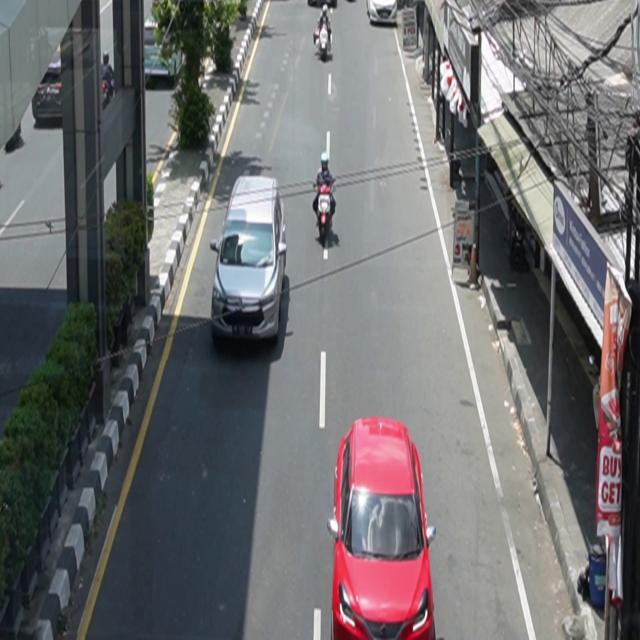car: (328, 417, 438, 640), (210, 175, 288, 346), (367, 1, 399, 26)
